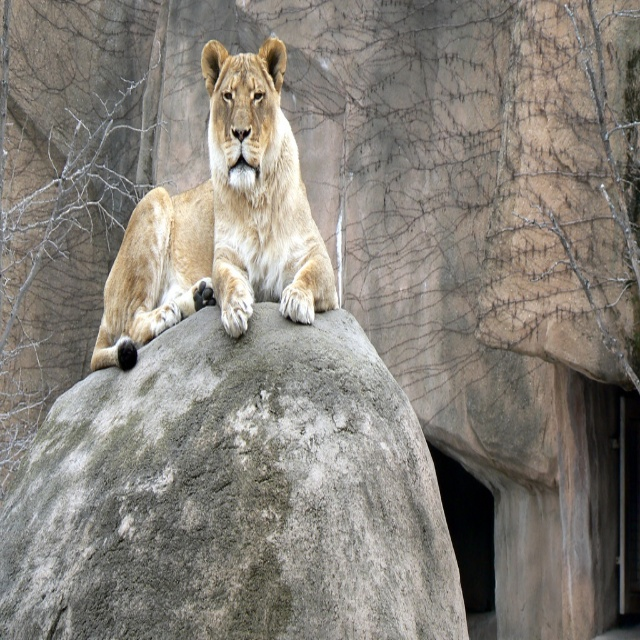Lion: (90, 34, 339, 371)
